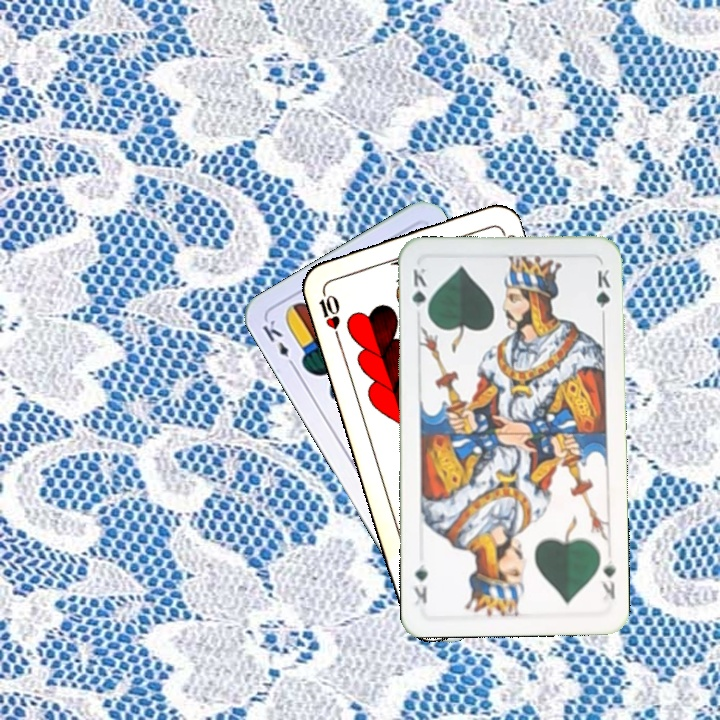EK: (258, 316, 299, 371)
GK: (407, 264, 431, 321), (596, 556, 618, 601)
H10: (314, 283, 343, 342)
